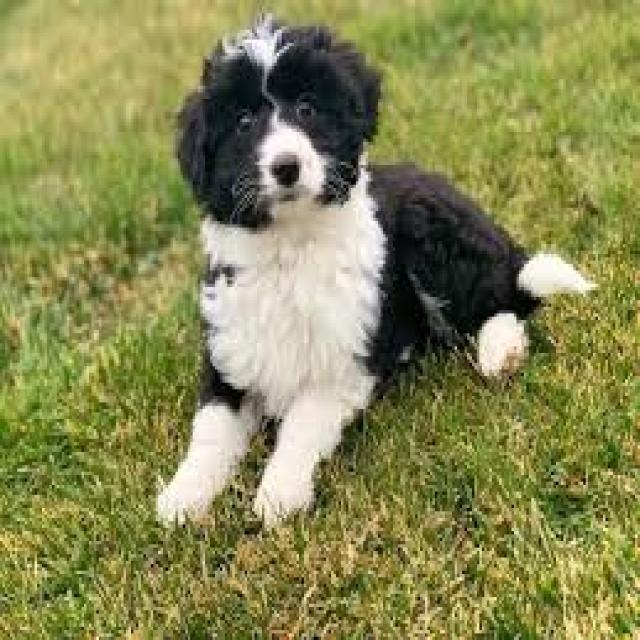ALASKAN_MALAMUTE: (137, 6, 595, 546)
